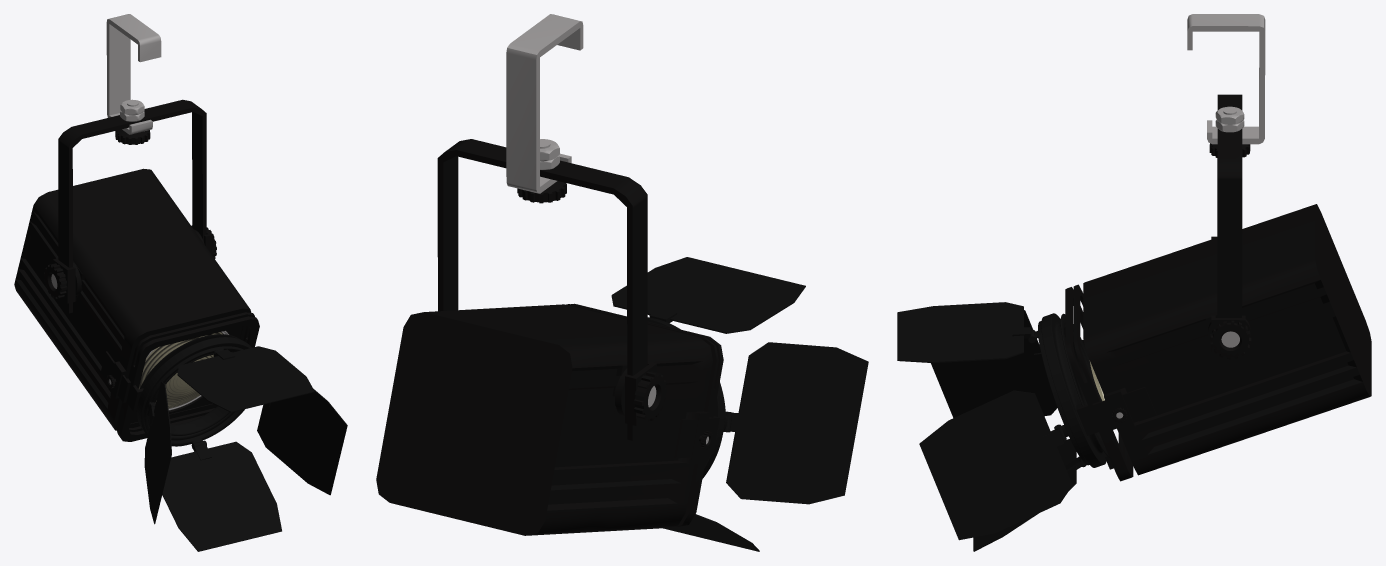
The model's file is stage_lights_barn_doors.glb.
The picture shows the model from 3 angles, left to right: view 1: azimuth 30°, elevation 25°; view 2: azimuth 150°, elevation 25°; view 3: azimuth 270°, elevation 25°; orthographic projection. The views are drawn at different scales.
Parts seen in each view (by area): view 1: Cube, hanger, bd bottom, bd left, bd top, ring.001, bd right, lens; view 2: Cube, hanger, bd right, bd top, bd bottom, ring.001; view 3: Cube, bd left, hanger, bd top, bd right, ring.001, bd bottom.
Boxes of the visible parts, x1,y1,x2,y2 form: Cube: (14,168,259,441); hanger: (44,14,216,313); bd bottom: (162,441,281,551); bd left: (257,389,347,495); bd top: (177,346,314,412); ring.001: (136,334,251,446); bd right: (144,381,171,524); lens: (139,331,228,410); Cube: (376,303,723,535); hanger: (437,14,666,440); bd right: (726,342,868,504); bd top: (611,257,805,333); bd bottom: (663,514,759,551); ring.001: (647,317,727,478); Cube: (1065,204,1371,481); bd left: (919,390,1072,540); hanger: (1187,14,1265,371); bd top: (897,302,1030,363); bd right: (931,310,1057,417); ring.001: (1034,313,1109,467); bd bottom: (973,439,1081,551).
Size of the model in its own units: 2.98 by 6.96 by 5.88.
4 materials, 1 textured.
